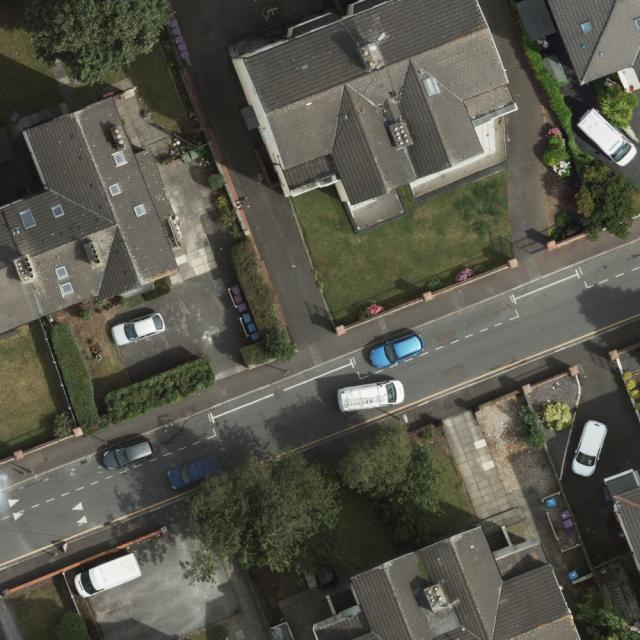roof: (234, 0, 518, 207), (0, 96, 180, 335), (312, 526, 582, 640), (548, 0, 640, 95), (612, 488, 640, 572)
skylight: (18, 208, 39, 231), (110, 148, 129, 169), (105, 180, 124, 197), (50, 202, 67, 220), (52, 265, 69, 281), (60, 281, 75, 297), (131, 203, 146, 219), (580, 19, 594, 36)
